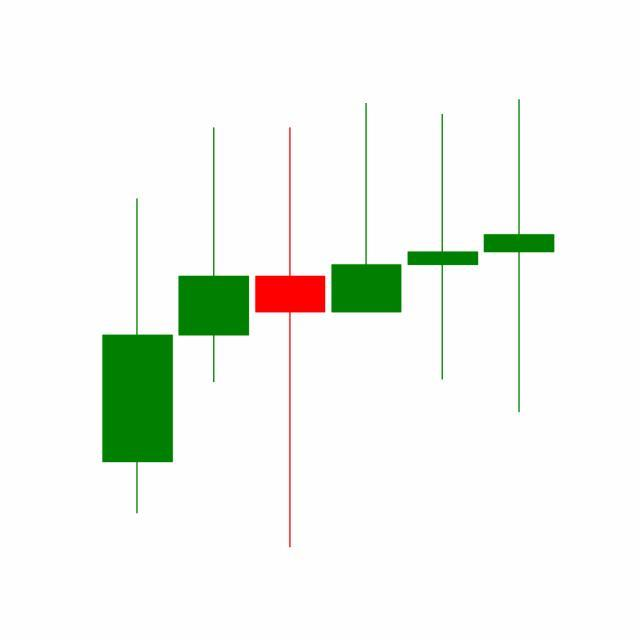Spinning Top: (404, 111, 482, 384)
